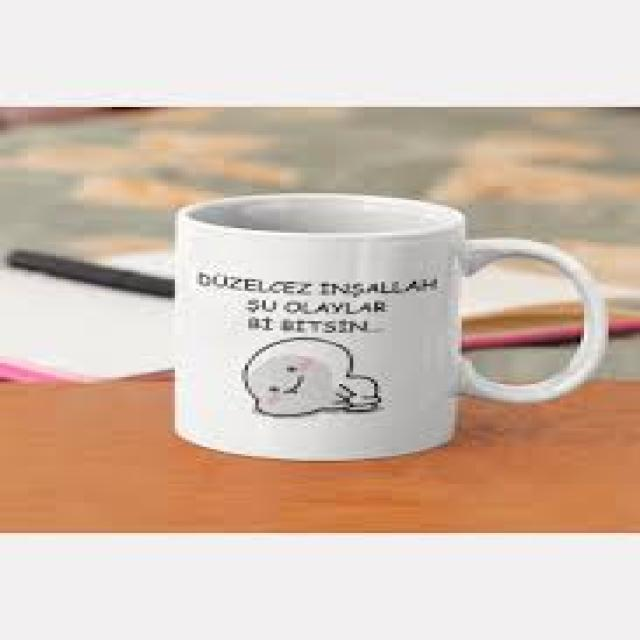taza: (175, 192, 611, 460)
